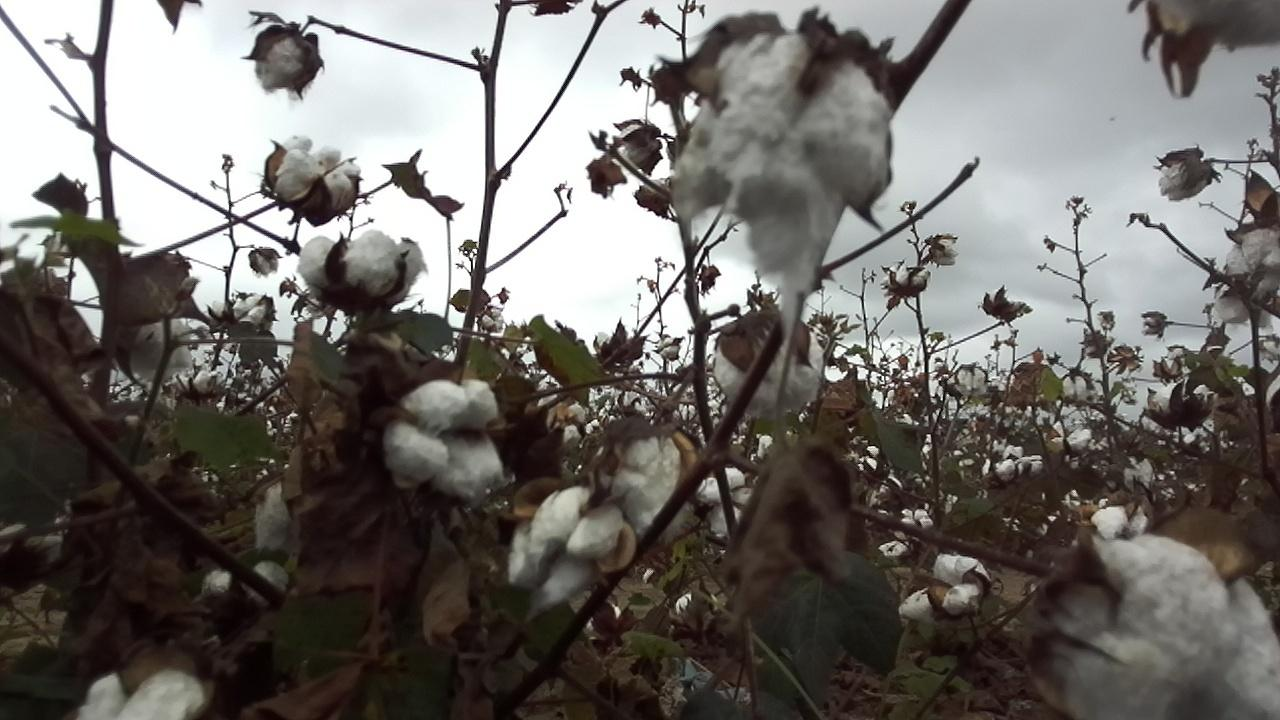cotton_ready: (676, 30, 895, 294), (1045, 537, 1280, 720), (505, 485, 627, 606), (388, 384, 505, 497), (716, 317, 825, 425), (301, 230, 425, 310), (269, 134, 359, 218), (609, 432, 682, 529), (79, 672, 205, 720), (897, 555, 994, 617), (1154, 0, 1280, 47), (1218, 230, 1280, 321), (248, 480, 312, 551), (698, 469, 759, 538), (127, 317, 192, 381), (203, 559, 282, 610), (255, 30, 309, 94)
